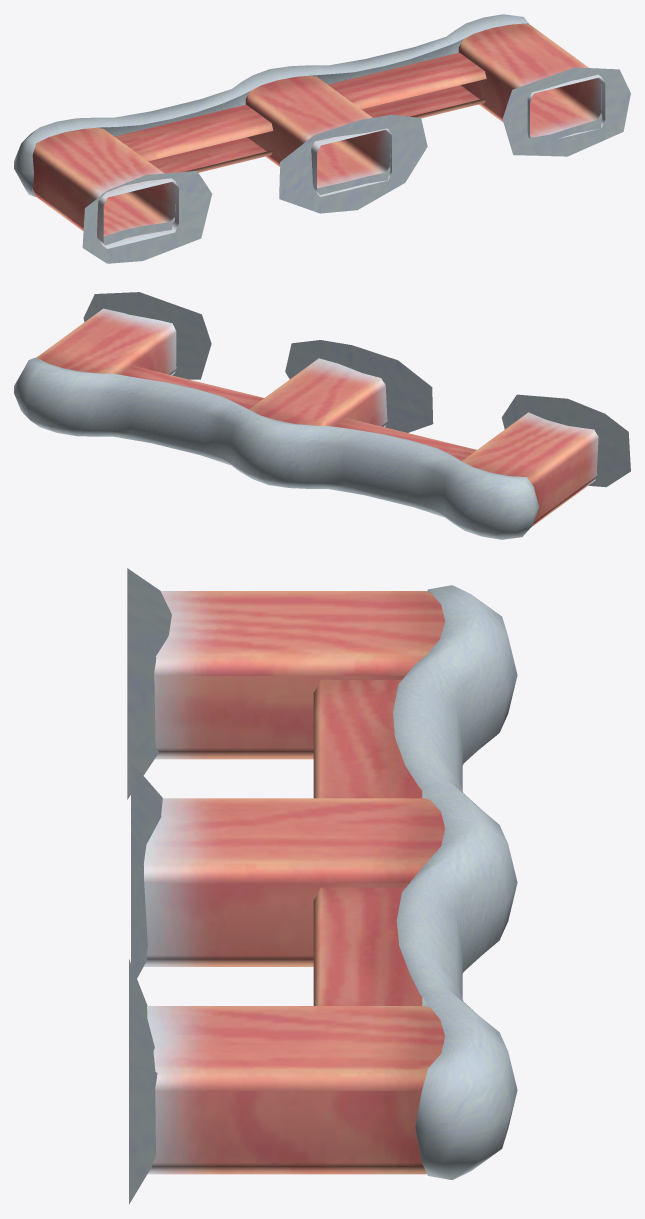
File: FenceSnow.FBX
The picture shows the model from 3 angles, top to bottom: view 1: azimuth 30°, elevation 25°; view 2: azimuth 150°, elevation 25°; view 3: azimuth 270°, elevation 25°; orthographic projection. The views are drawn at different scales.
Visible parts, largest first — view 1: polySurface17__Fence00_D, pasted__polySurface2034__Snow00_D; view 2: pasted__polySurface2034__Snow00_D, polySurface17__Fence00_D; view 3: polySurface17__Fence00_D, pasted__polySurface2034__Snow00_D.
Part boxes in pixels (bbox=[...]): polySurface17__Fence00_D: bbox=[32, 23, 605, 248]; pasted__polySurface2034__Snow00_D: bbox=[14, 14, 630, 263]; pasted__polySurface2034__Snow00_D: bbox=[14, 292, 630, 539]; polySurface17__Fence00_D: bbox=[36, 308, 598, 527]; polySurface17__Fence00_D: bbox=[143, 591, 445, 1174]; pasted__polySurface2034__Snow00_D: bbox=[127, 568, 517, 1204].
Bounding box in the file's own units: 437 × 68.77 × 135.
